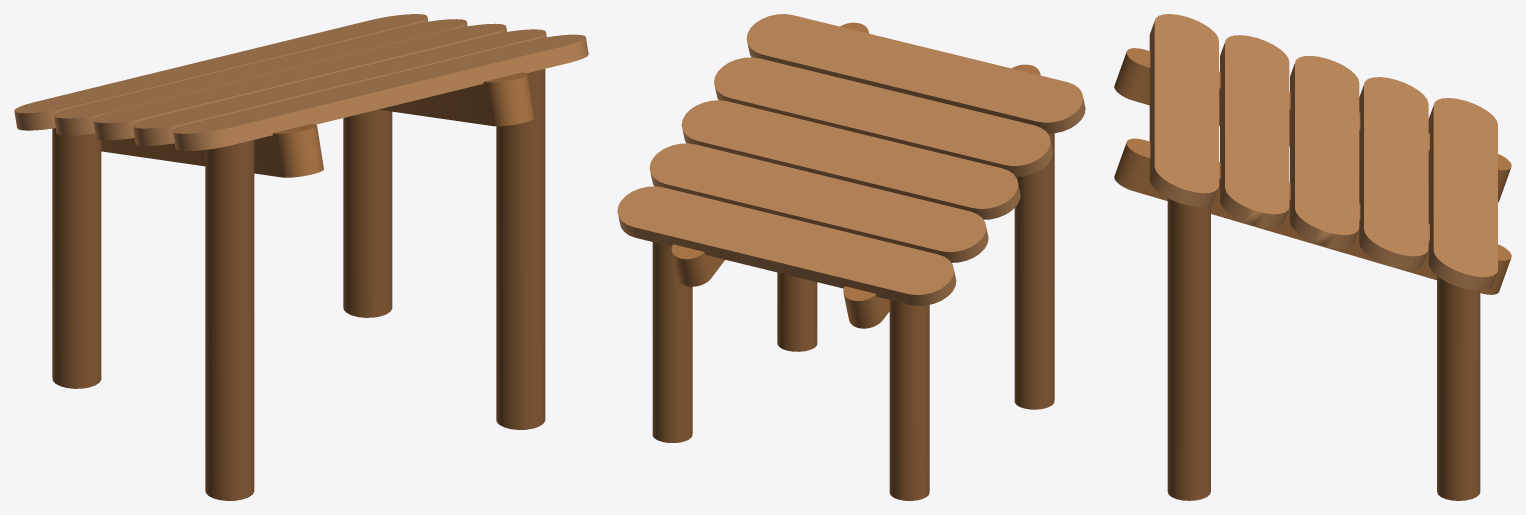
The model's file is Shed.fbx.
3 views of the same model, side by side, from view 1: azimuth 30°, elevation 25°; view 2: azimuth 150°, elevation 25°; view 3: azimuth 270°, elevation 25° (orthographic). The views are drawn at different scales.
Visible parts, largest first — view 1: Shed; view 2: Shed; view 3: Shed.
Boxes of the visible parts, x1,y1,x2,y2 form: Shed: (14, 14, 588, 500); Shed: (617, 14, 1085, 500); Shed: (1114, 14, 1511, 500).
Bounding box in the file's own units: 2.17 × 1.96 × 2.1.
